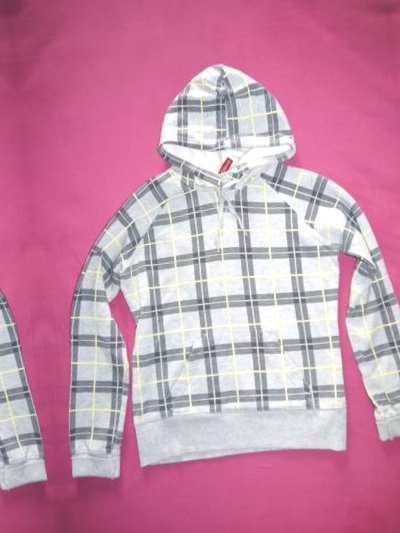Hoodie: (29, 47, 400, 510), (0, 89, 51, 533), (392, 8, 400, 470)
